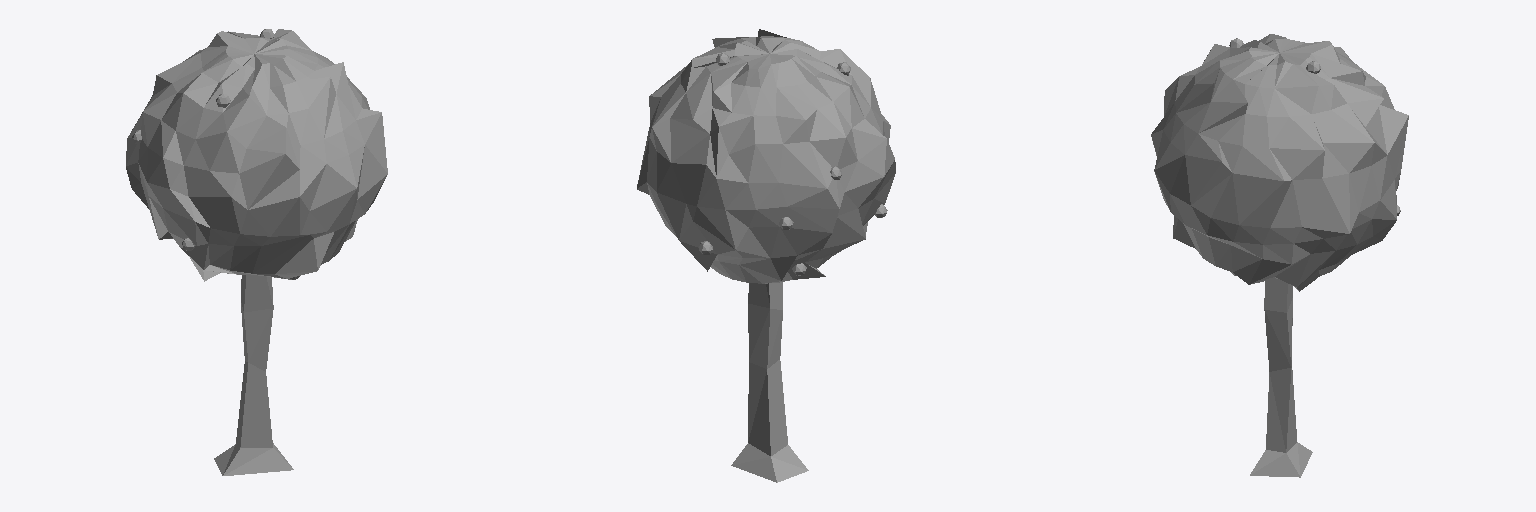
Rendered from Tree2.obj.
3 renders of one model, left to right at view 1: azimuth 30°, elevation 25°; view 2: azimuth 150°, elevation 25°; view 3: azimuth 270°, elevation 25°, orthographic.
Visible parts, largest first — view 1: Nullo_Alberi_Albero_2_Sfera2, Nullo_Alberi_Albero_2_Cubo2; view 2: Nullo_Alberi_Albero_2_Sfera2, Nullo_Alberi_Albero_2_Cubo2; view 3: Nullo_Alberi_Albero_2_Sfera2, Nullo_Alberi_Albero_2_Cubo2.
Part boxes in pixels (x1,y1,x2,y2): Nullo_Alberi_Albero_2_Sfera2: (126,29,387,281); Nullo_Alberi_Albero_2_Cubo2: (214,275,293,475); Nullo_Alberi_Albero_2_Sfera2: (637,29,895,283); Nullo_Alberi_Albero_2_Cubo2: (731,282,808,482); Nullo_Alberi_Albero_2_Sfera2: (1151,34,1408,291); Nullo_Alberi_Albero_2_Cubo2: (1250,279,1312,477).
Size of the model in its own units: 336 by 594 by 334.